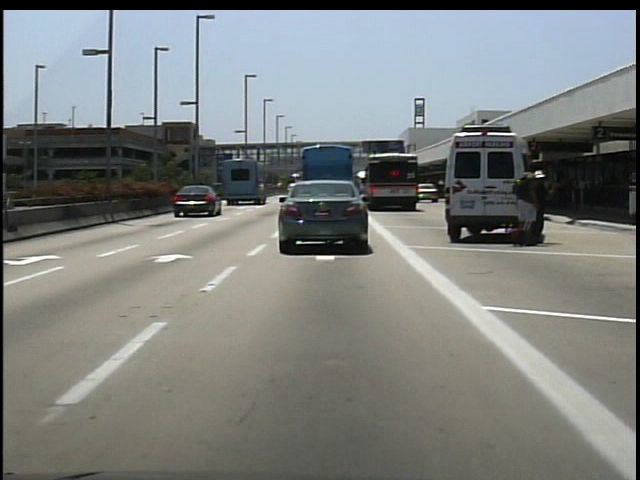person: (512, 160, 544, 246), (535, 170, 552, 246)
